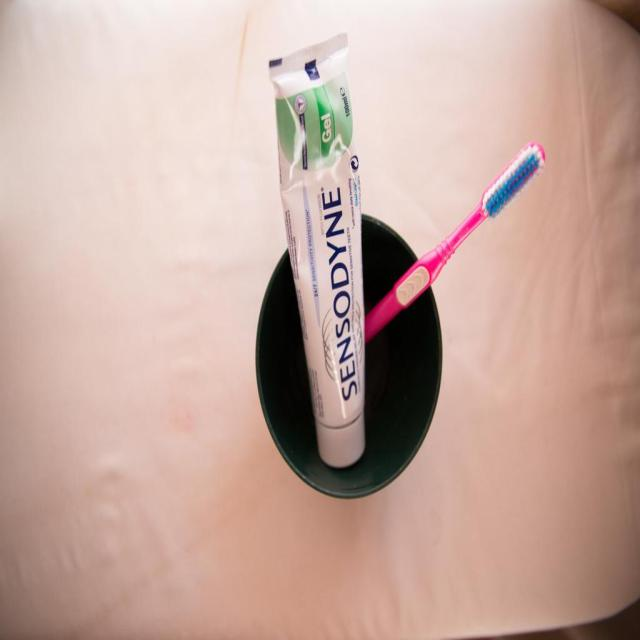Toothpaste: (265, 31, 374, 478)
